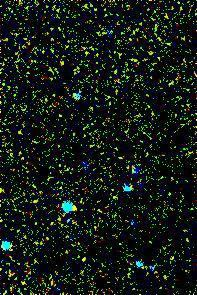star: (60, 194, 90, 224)
